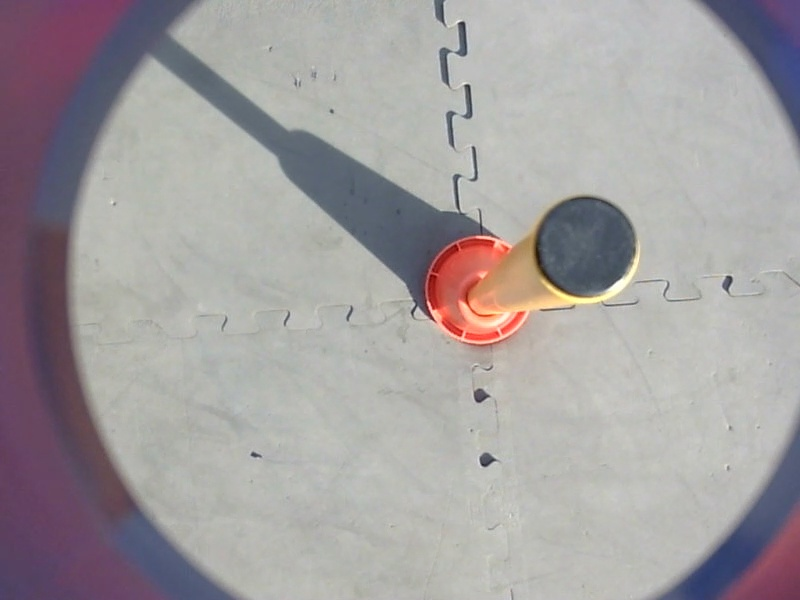tip: (526, 189, 644, 316)
